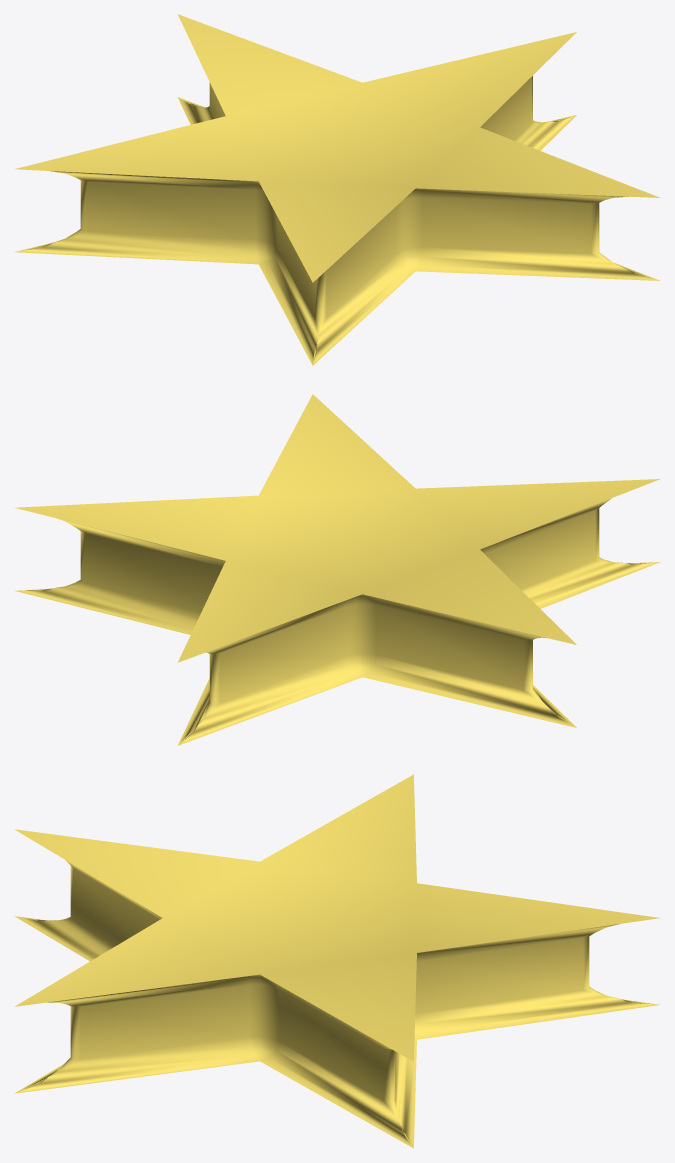
The model's file is star.glb.
The picture shows the model from 3 angles, top to bottom: view 1: azimuth 30°, elevation 25°; view 2: azimuth 150°, elevation 25°; view 3: azimuth 270°, elevation 25°; orthographic projection. The views are drawn at different scales.
Visible parts, largest first — view 1: Star; view 2: Star; view 3: Star.
Boxes of the visible parts, <box> form: Star: <box>14,14,660,365</box>; Star: <box>14,394,660,745</box>; Star: <box>14,774,660,1148</box>.
Size of the model in its own units: 0.6394 by 0.09 by 0.6081.
